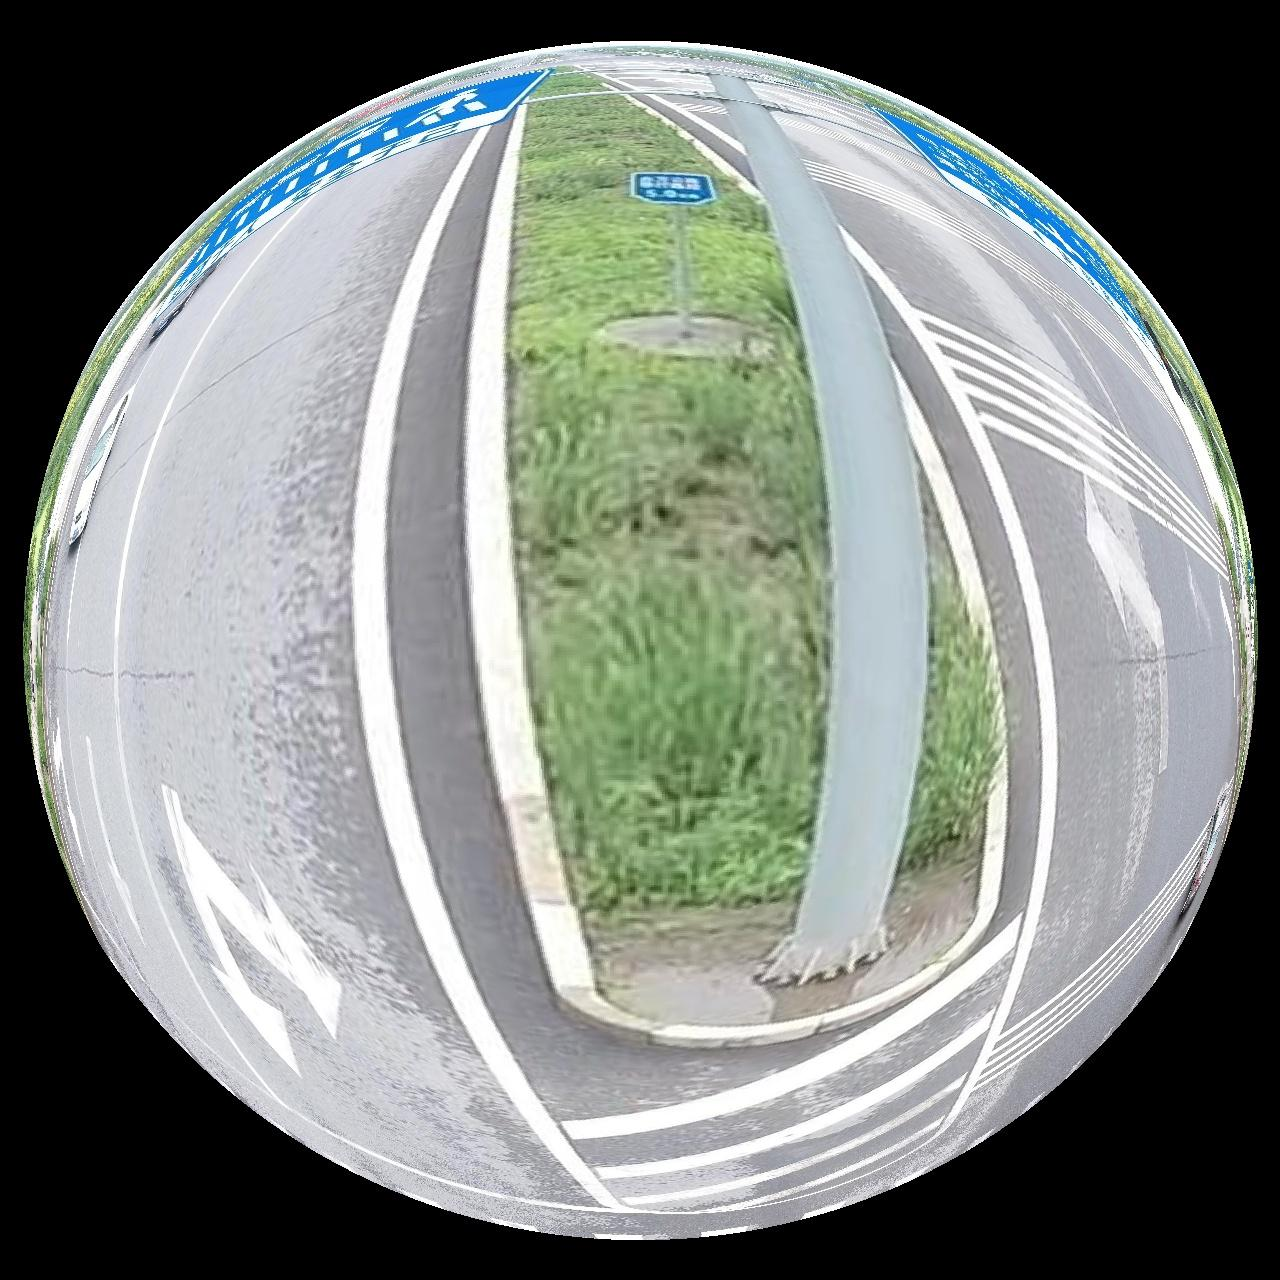cars: (67, 386, 131, 546)
trees: (508, 95, 829, 918), (903, 515, 999, 872)
